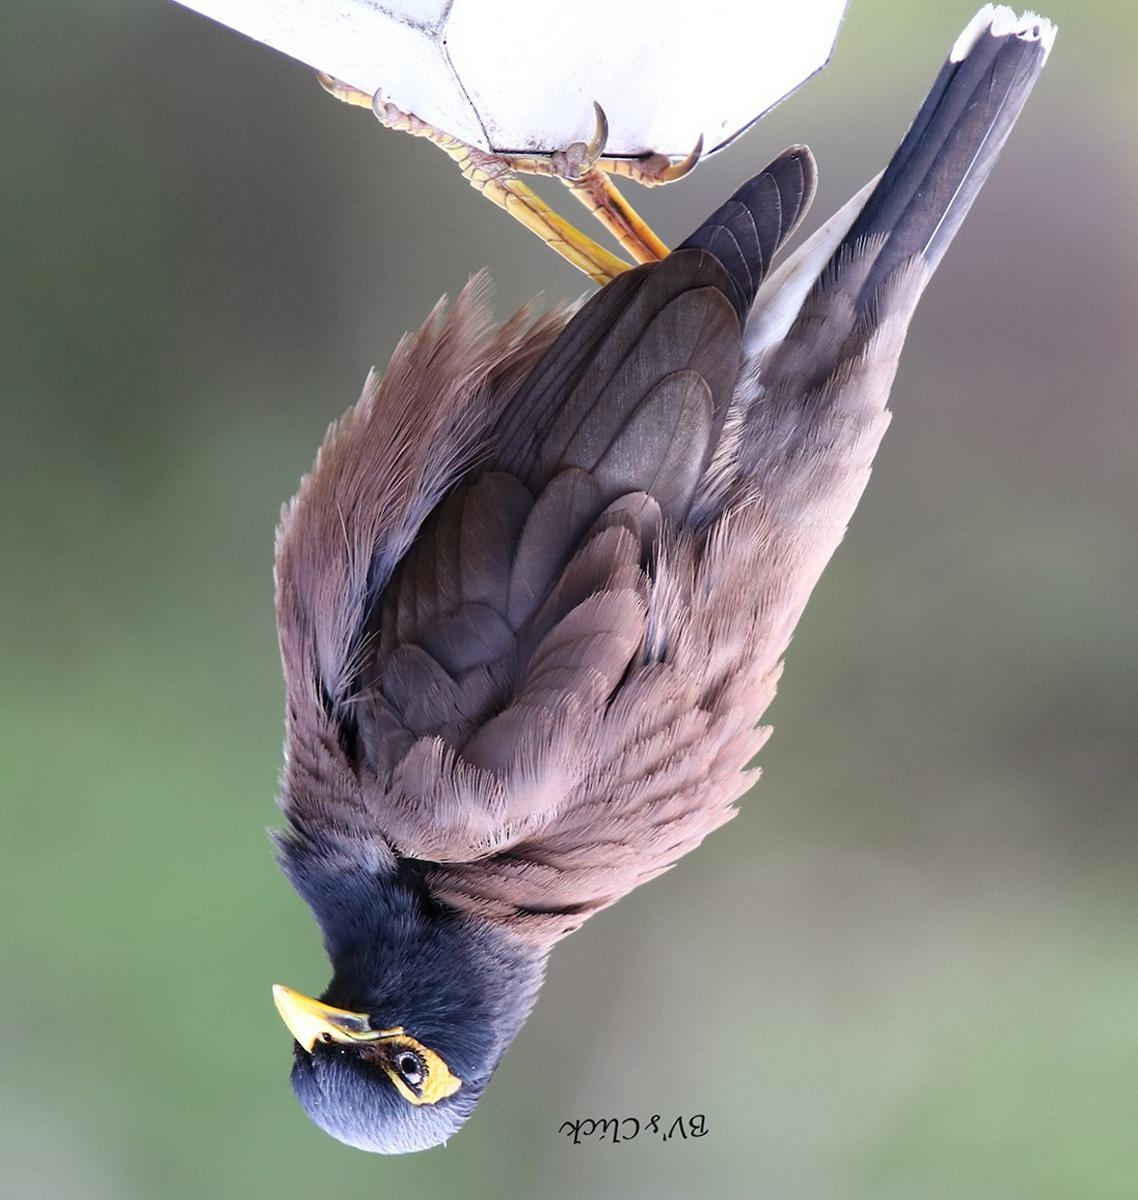myna: (215, 134, 1056, 1167)
